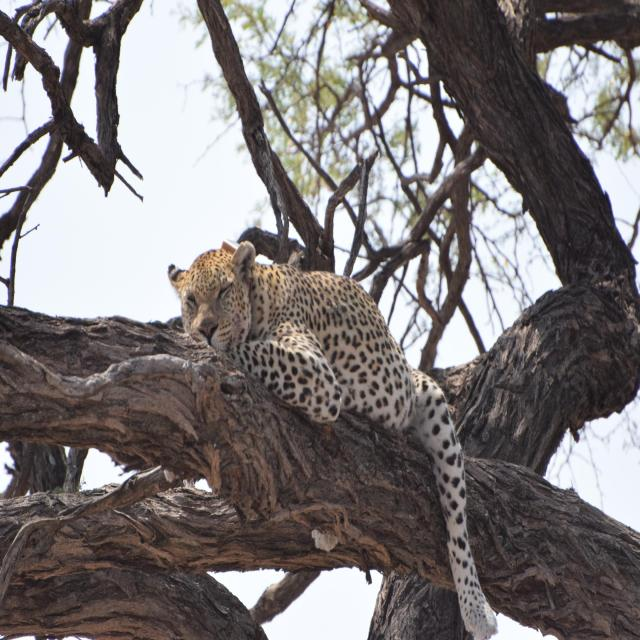Leopard: (112, 190, 561, 640)
